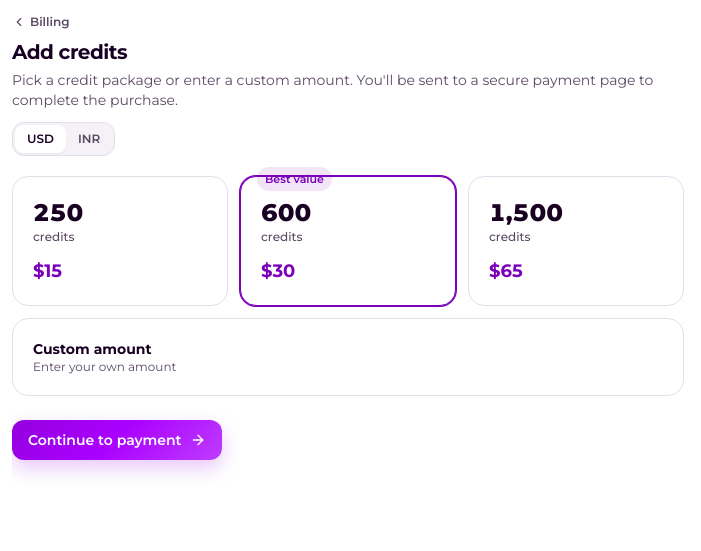
it: AddCredits › shows an error message when checkout fails to start
Check: the text "$15" is shown, box [33, 260, 62, 282]
What coordinates should you click on to do the following:
click the button "Continue to payment"
I would click on:
 (117, 440)
Its box is [12, 420, 222, 460].
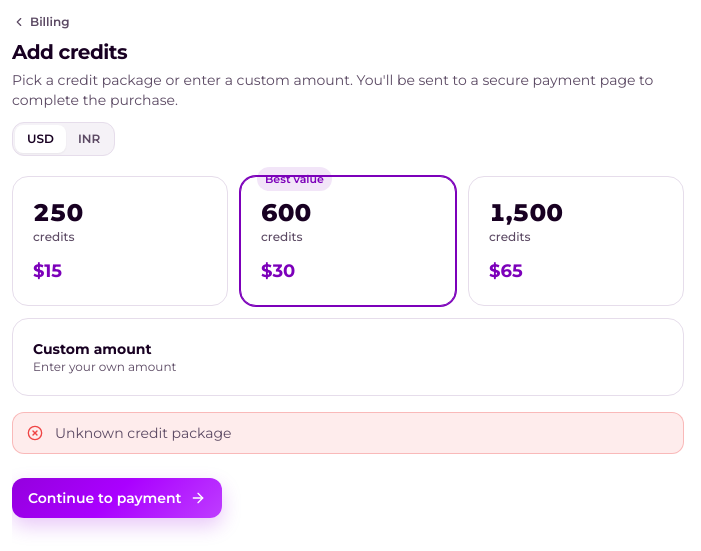
Check: the text "Unknown credit package" is shown, box [55, 424, 232, 442]
